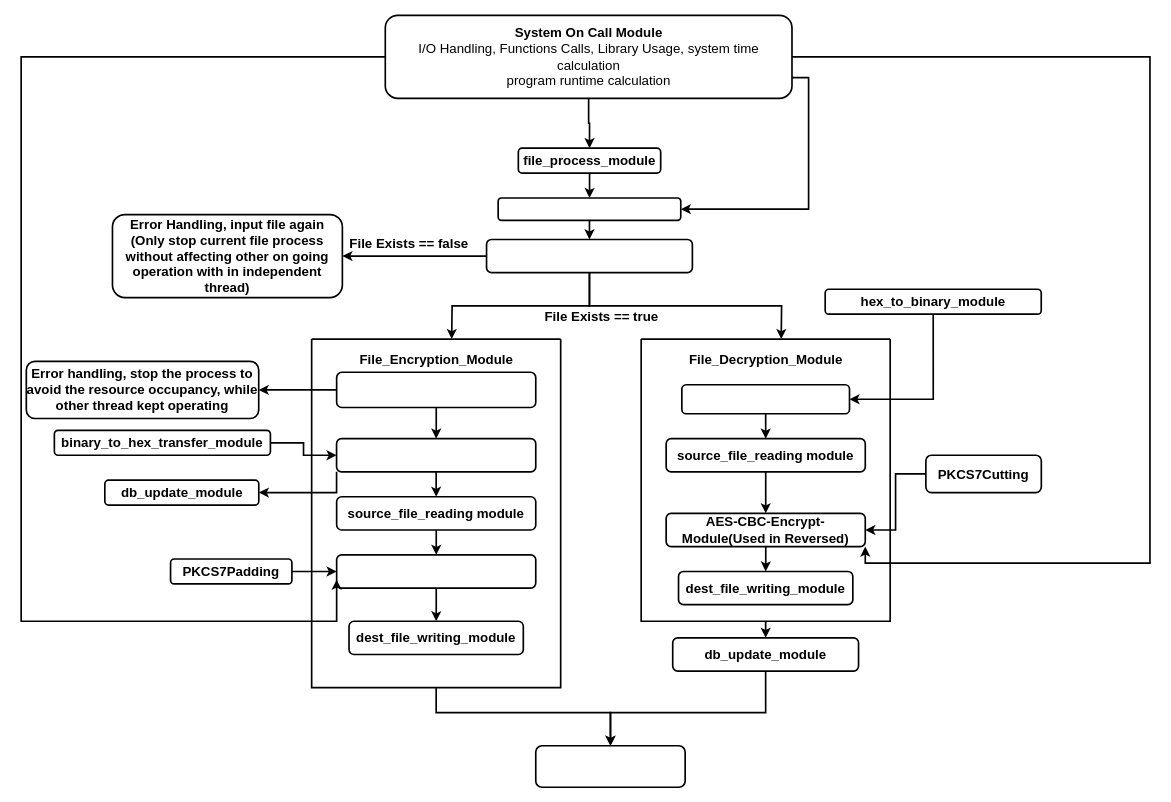
Image size: 1171x802. Some labels were removed from this diagram. Each missing label, with the centre of its shape:
"AES-CBC-Encrypt-Module" belongs at (x=435, y=571).
"file_delete_module" belongs at (x=610, y=766).
"file_existence_check_module" belongs at (x=589, y=255).
"key_iv_generation_module" belongs at (x=435, y=389).
"key_iv_loading_module" belongs at (x=765, y=398).
"key_iv_storage_module" belongs at (x=435, y=454).
"system_time_module" belongs at (x=589, y=209).
